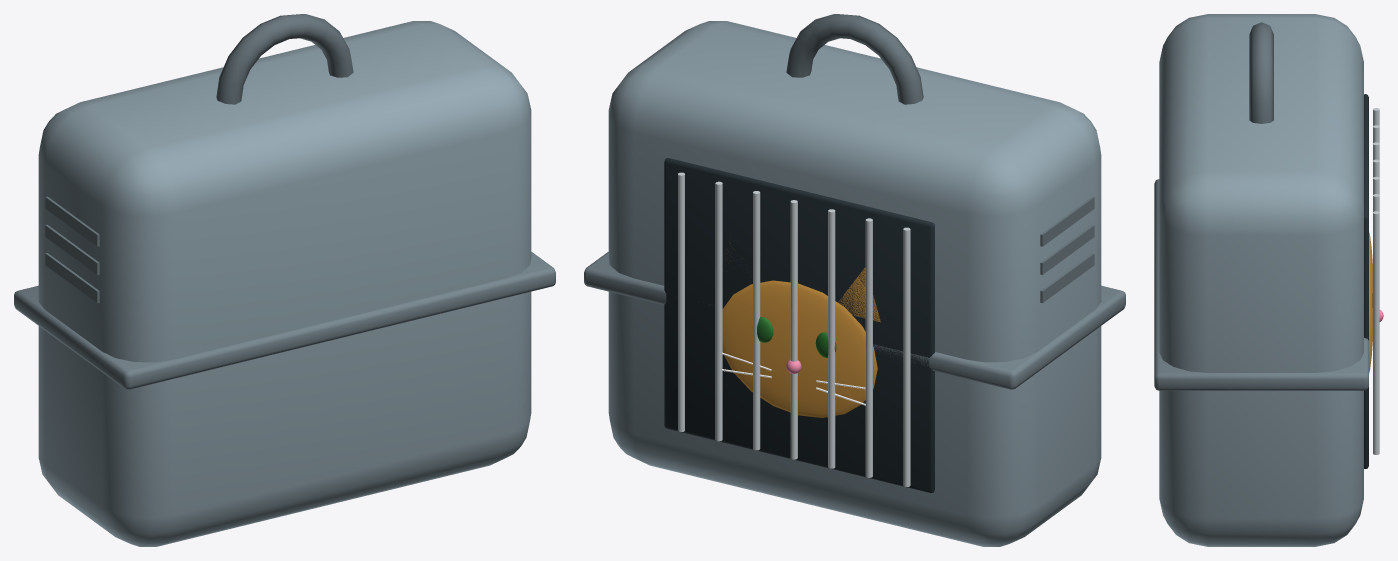
File: cat_carrier.fbx
The picture shows the model from 3 angles, left to right: view 1: azimuth 30°, elevation 25°; view 2: azimuth 150°, elevation 25°; view 3: azimuth 270°, elevation 25°; orthographic projection. The views are drawn at different scales.
Visible parts, largest first — view 1: Biscuit (in Carrier); view 2: Biscuit (in Carrier); view 3: Biscuit (in Carrier).
Boxes of the visible parts, left/top/right/bottom form: Biscuit (in Carrier): left=14, top=14, right=555, bottom=546; Biscuit (in Carrier): left=584, top=14, right=1125, bottom=546; Biscuit (in Carrier): left=1154, top=14, right=1383, bottom=546.
Bounding box in the file's own units: 1.92 × 1.98 × 0.94.
